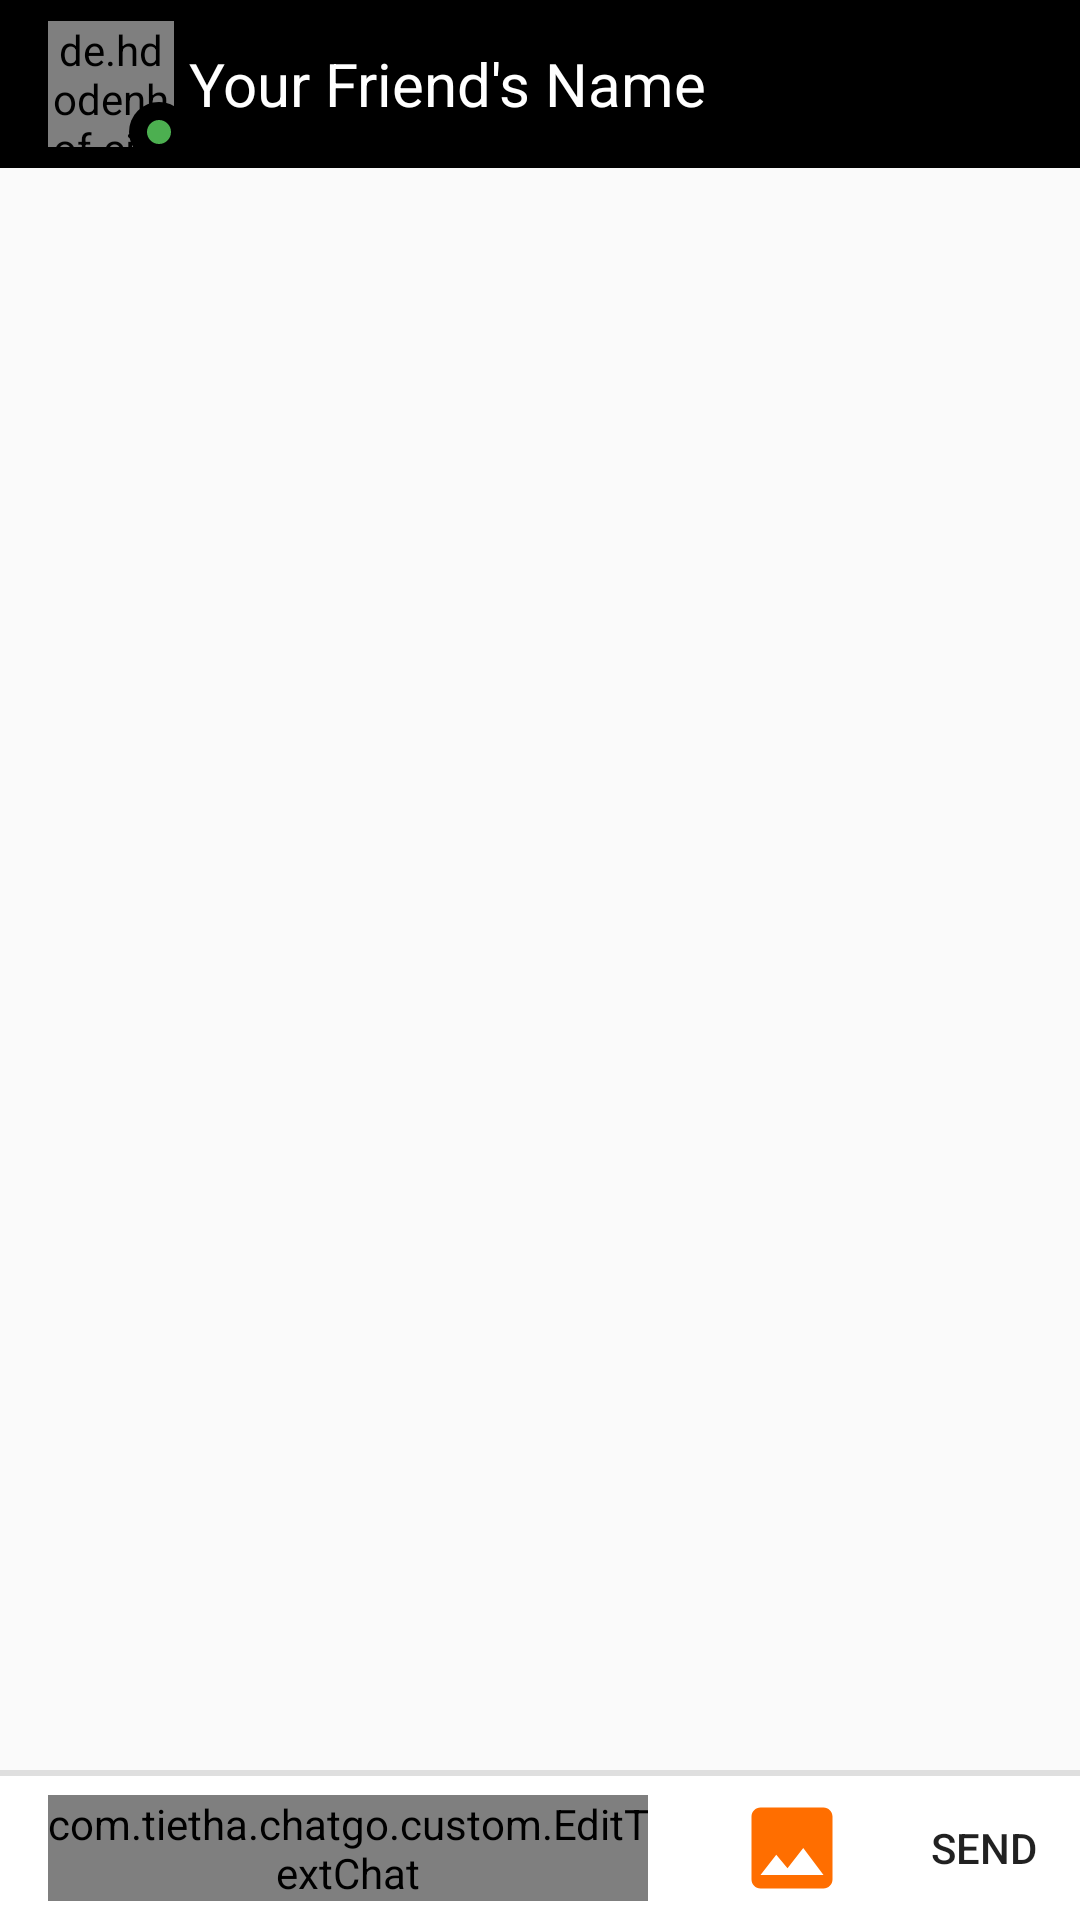

Named icons in this screenshot (1080*1920) and their centers, (x,y):
online: (151,133)
